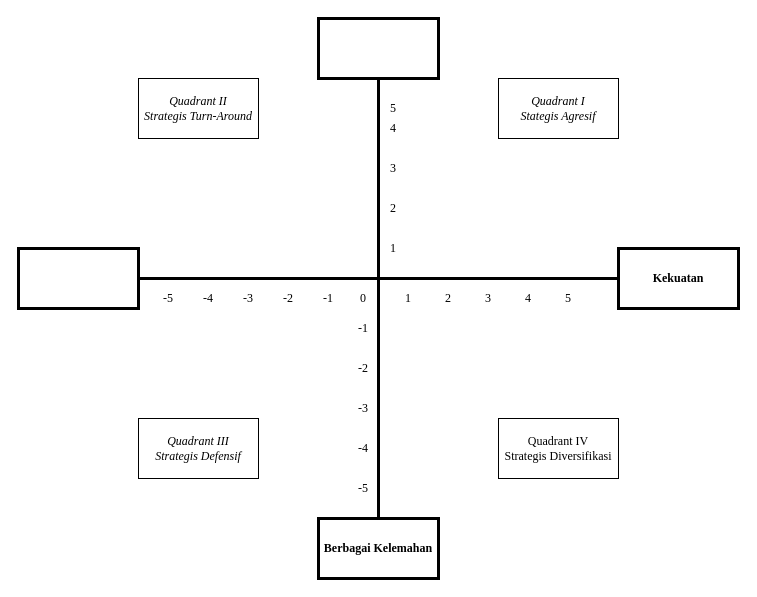
This 757x597 diagram has some shape labels left out. The box of each missing label's shape, as (x1, y1, x2, y2) in pixels:
Berbagai Peluang: (316, 16, 440, 80)
Kekurangan: (16, 246, 140, 310)
